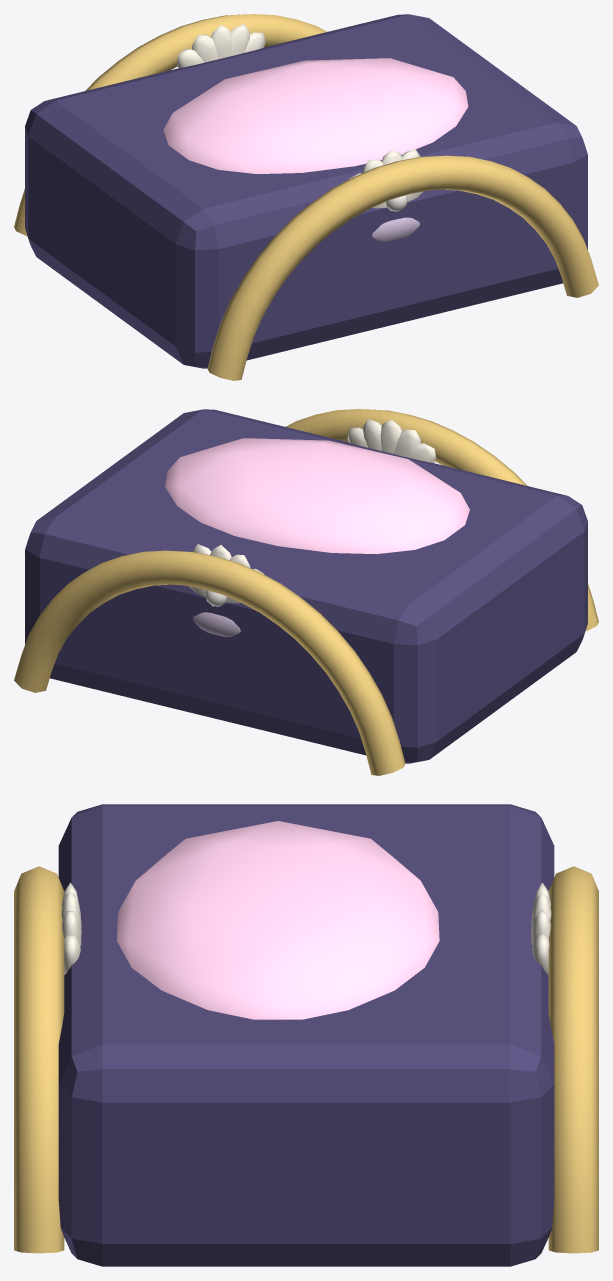
Rendered from pearl_keepsake_cradle.glb.
3 views of the same model, one above another, from view 1: azimuth 30°, elevation 25°; view 2: azimuth 150°, elevation 25°; view 3: azimuth 270°, elevation 25° (orthographic). The views are drawn at different scales.
Visible parts, largest first — view 1: pearl_keepsake_cradle.001; view 2: pearl_keepsake_cradle.001; view 3: pearl_keepsake_cradle.001.
Boxes of the visible parts, x1,y1,x2,y2 form: pearl_keepsake_cradle.001: (14, 14, 598, 380); pearl_keepsake_cradle.001: (14, 409, 598, 775); pearl_keepsake_cradle.001: (14, 804, 598, 1266).
Size of the model in its own units: 4.15 by 1.87 by 3.72.
